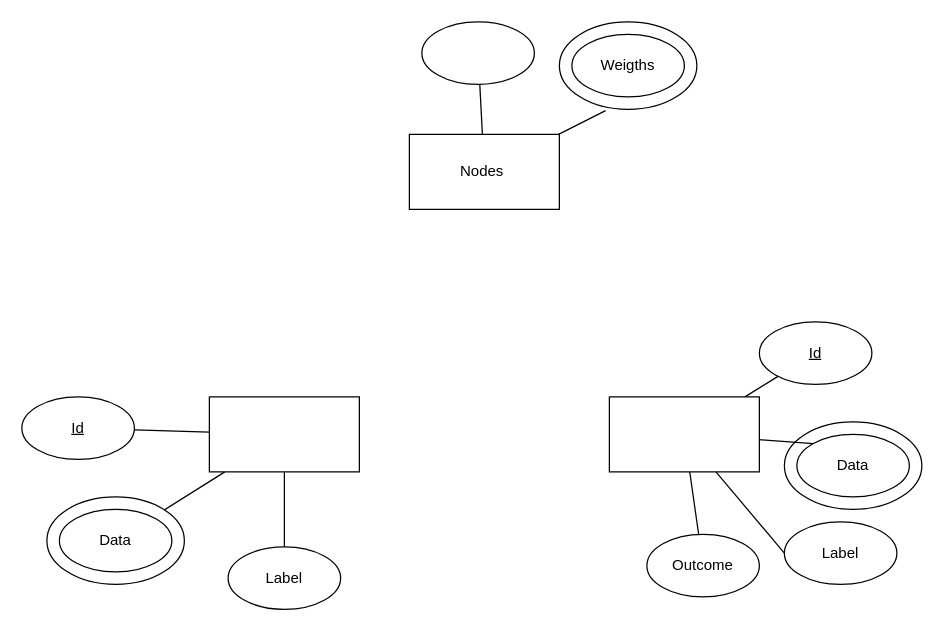
Some shapes in this 944 by 631 pixel diagram are drawn without their labels. Each missing label, with the box of its shape:
NodeID: (421, 21, 534, 84)
TrainedData: (608, 396, 759, 472)
UntrainedData: (208, 396, 359, 472)
